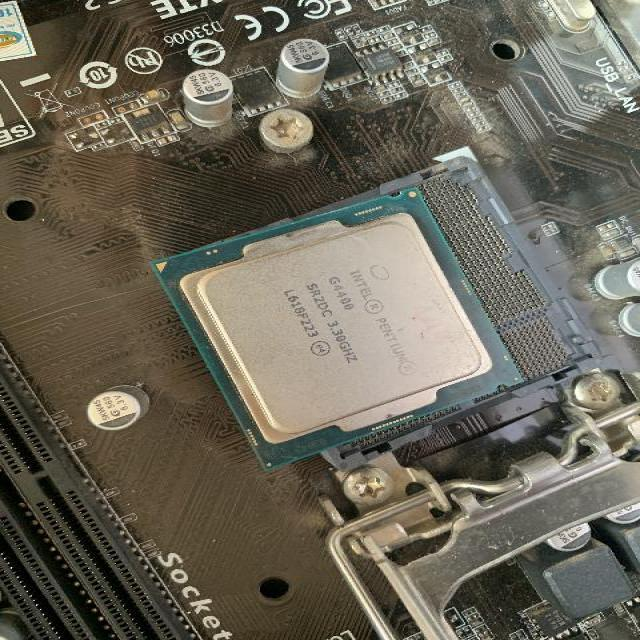CPU: (148, 188, 524, 472)
Mainboard: (2, 0, 640, 640)
